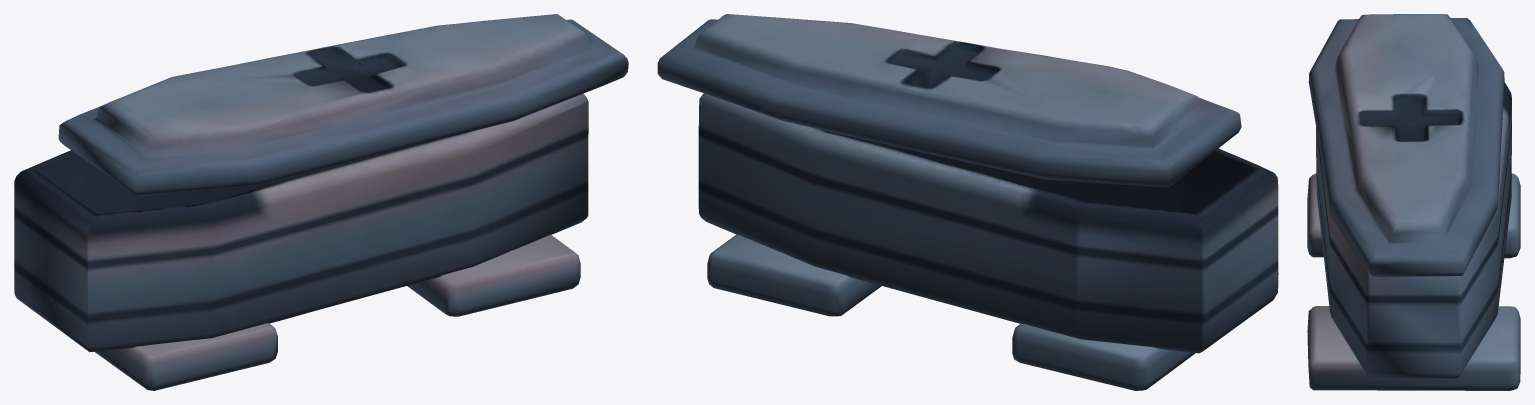
File: sarcophagus.glb
The picture shows the model from 3 angles, left to right: view 1: azimuth 30°, elevation 25°; view 2: azimuth 150°, elevation 25°; view 3: azimuth 270°, elevation 25°; orthographic projection. The views are drawn at different scales.
Parts seen in each view (by area): view 1: plinth; view 2: plinth; view 3: plinth.
Boxes of the visible parts, x1=… form: plinth: x1=14, y1=14, x2=628, y2=390; plinth: x1=657, y1=14, x2=1278, y2=390; plinth: x1=1307, y1=14, x2=1520, y2=390.
Bounding box in the file's own units: 2.05 × 0.8127 × 0.76.
1 material, 1 textured.
